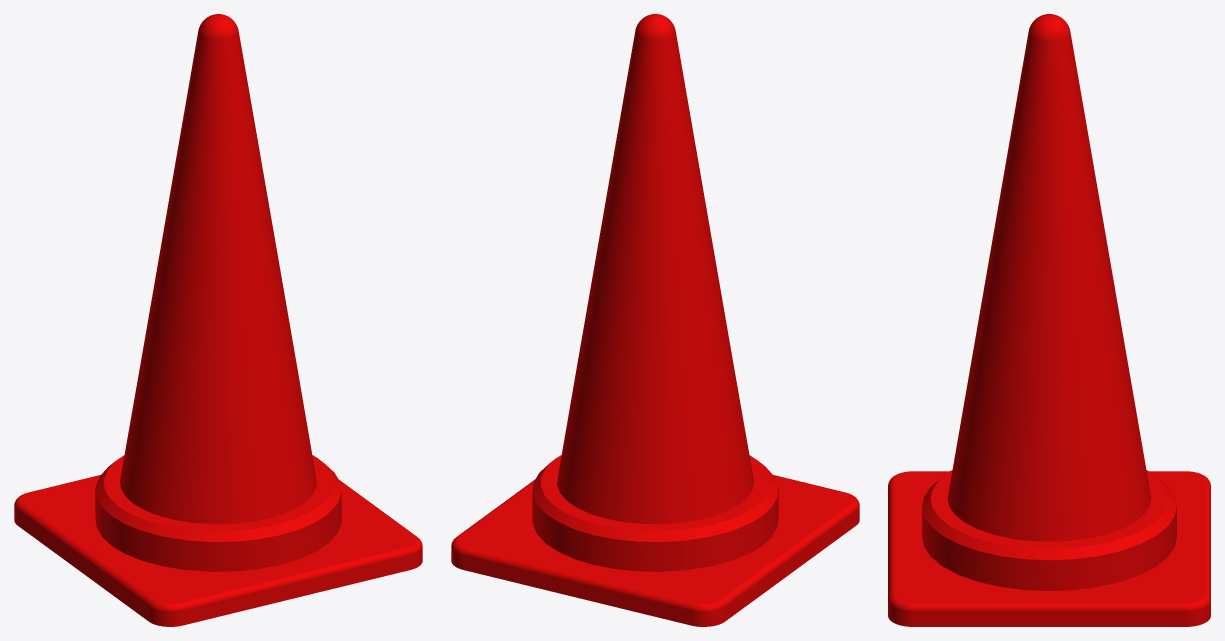
The model's file is red_corn.glb.
3 renders of one model, left to right at view 1: azimuth 30°, elevation 25°; view 2: azimuth 150°, elevation 25°; view 3: azimuth 270°, elevation 25°, orthographic. The views are drawn at different scales.
Visible parts, largest first — view 1: Body; view 2: Body; view 3: Body.
Part boxes in pixels (x1,y1,x2,y2): Body: [14, 14, 422, 626]; Body: [451, 14, 859, 626]; Body: [888, 14, 1210, 626].
Bounding box in the file's own units: 0.38 × 0.705 × 0.38.
